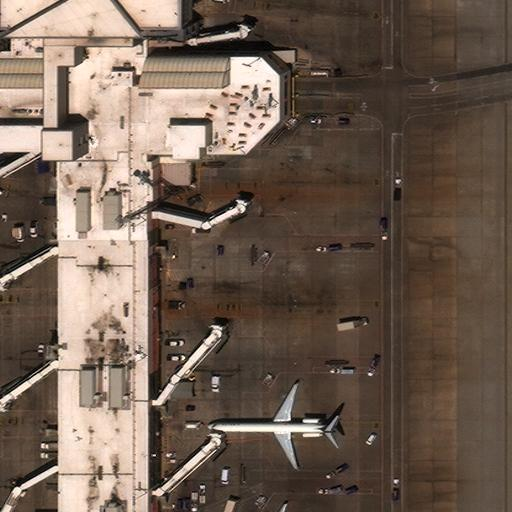Medium Civil Transport: (207, 383, 338, 469)
